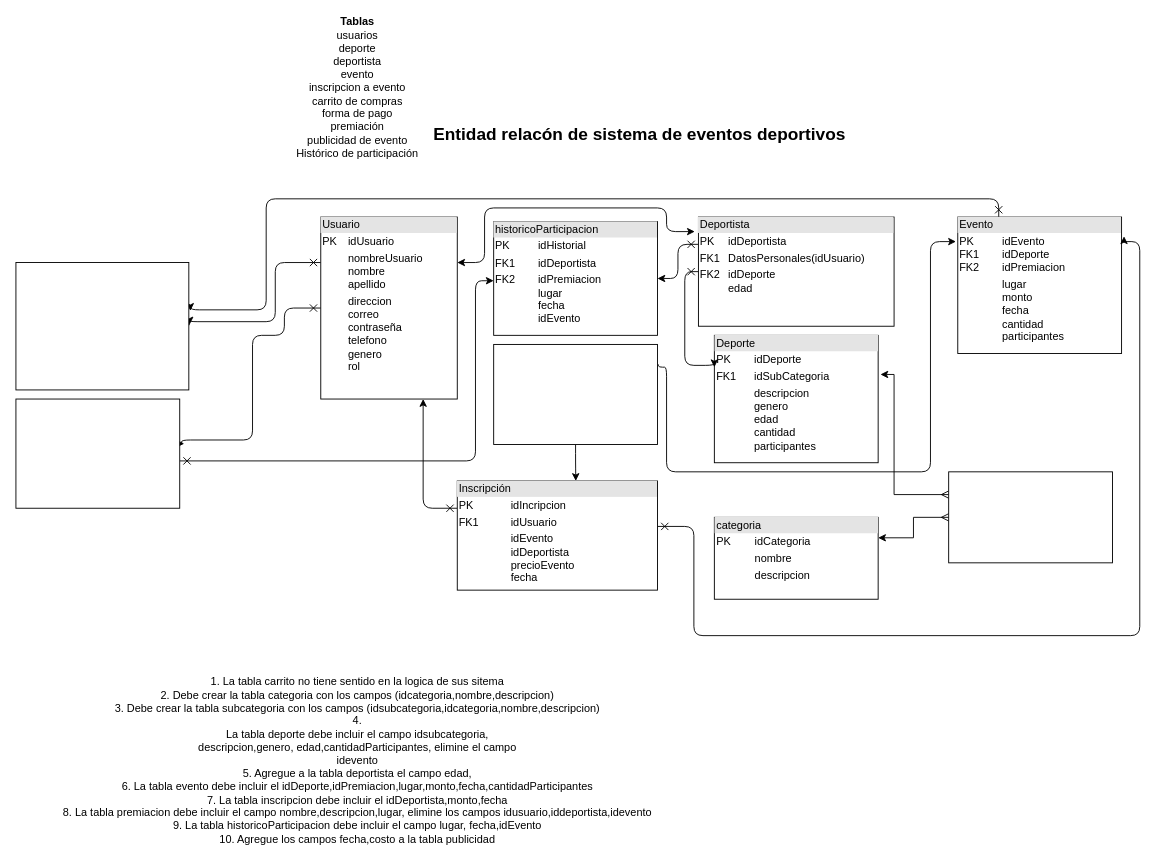
This 1164x861 diagram has some shape labels left out. The box of each missing label's shape, as (x1, y1, x2, y2) in pixels:
metodoPago PK FK1 idCarrito FK2 idUsuario idEvento cantidad total metodoDePago: (15, 262, 189, 390)
Premiación PK Premiacion nombre descripcion lugar: (15, 398, 180, 508)
Publicidad PK idPublicidad FK1 Fk2 idEvento idInscripcion fecha costo: (493, 344, 657, 445)
subCategoria PK idSubCategoria FK1 idCategoria nombre descripcion: (948, 471, 1112, 563)
